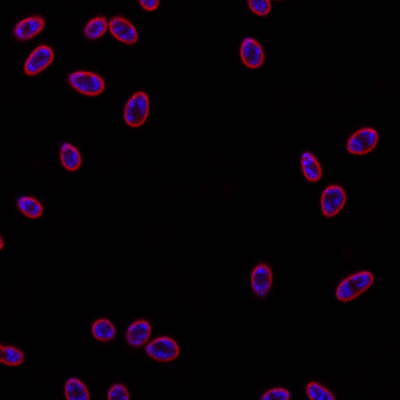Mecillinam: (336, 270, 376, 303), (65, 68, 104, 98), (122, 89, 151, 129), (343, 126, 381, 155), (142, 336, 181, 364), (23, 44, 54, 77), (320, 183, 348, 219), (108, 16, 138, 46), (238, 37, 265, 69), (15, 194, 44, 220), (300, 150, 322, 183), (90, 316, 117, 341)
Oblique: (124, 317, 152, 350), (12, 14, 45, 41), (250, 261, 273, 297), (82, 15, 110, 41), (58, 141, 82, 171)
